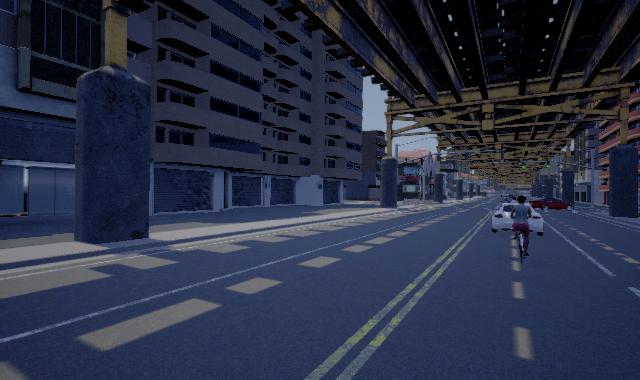traffic_light: (522, 162, 524, 168), (547, 161, 549, 167)
vehicle: (492, 193, 548, 235)
